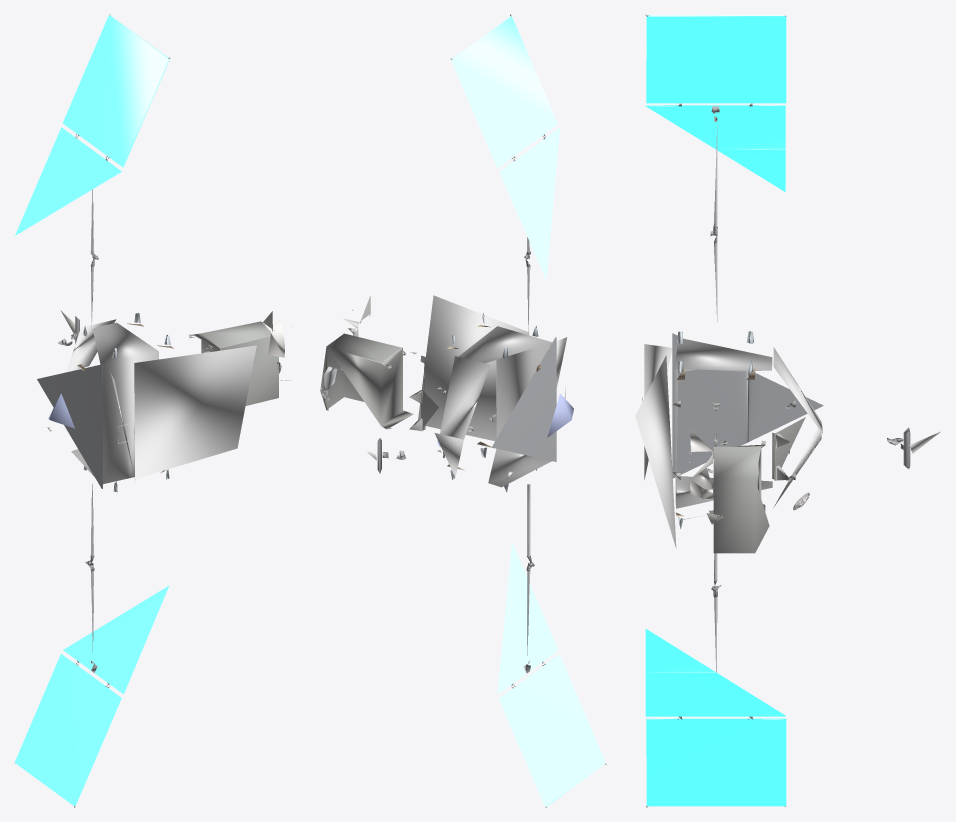
Rendered from tropical-rainfall-measuring-mission-trmm.glb.
3 views of the same model, side by side, from view 1: azimuth 30°, elevation 25°; view 2: azimuth 150°, elevation 25°; view 3: azimuth 270°, elevation 25° (orthographic). The views are drawn at different scales.
Parts seen in each view (by area): view 1: TRMM [Blue_Surfaces], TRMM [Solar Panels]; view 2: TRMM [Blue_Surfaces], TRMM [Solar Panels]; view 3: TRMM [Solar Panels], TRMM [Blue_Surfaces].
Boxes of the visible parts, x1=… form: TRMM [Blue_Surfaces]: x1=14, y1=14, x2=291, y2=807; TRMM [Solar Panels]: x1=15, y1=15, x2=169, y2=805; TRMM [Blue_Surfaces]: x1=320, y1=14, x2=606, y2=807; TRMM [Solar Panels]: x1=451, y1=16, x2=605, y2=806; TRMM [Solar Panels]: x1=645, y1=15, x2=786, y2=806; TRMM [Blue_Surfaces]: x1=635, y1=14, x2=940, y2=807.
Bounding box in the file's own units: 343 × 1012 × 331.
3 materials, 3 textured.
